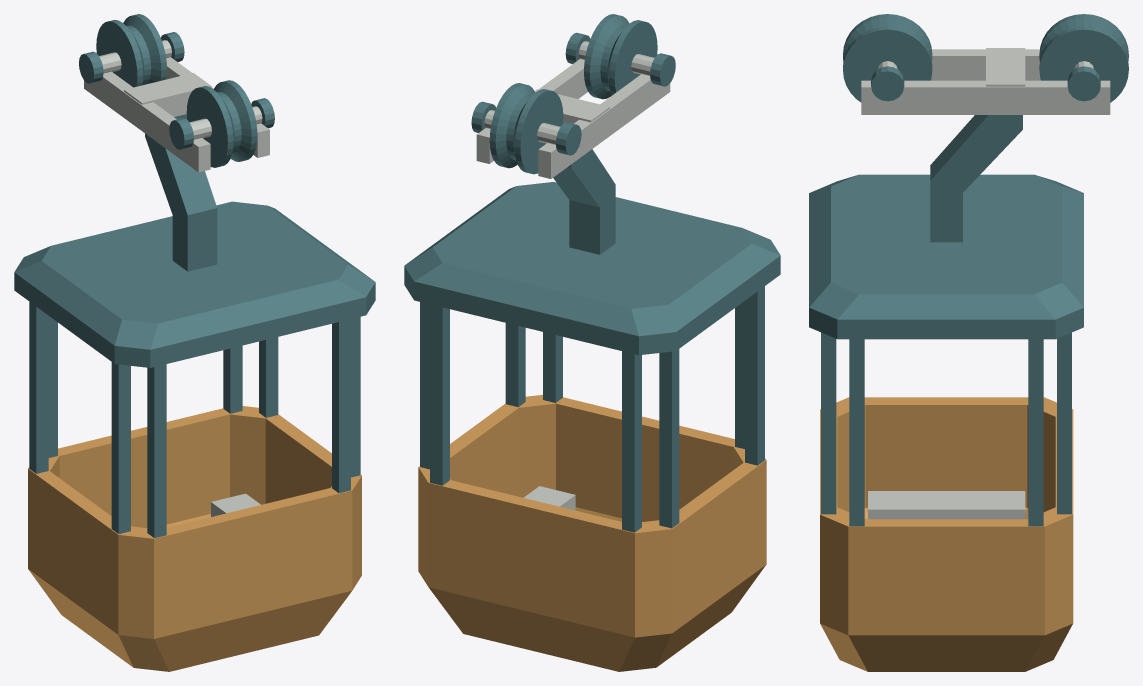
3 views of the same model, side by side, from view 1: azimuth 30°, elevation 25°; view 2: azimuth 150°, elevation 25°; view 3: azimuth 270°, elevation 25° (orthographic). The views are drawn at different scales.
Visible parts, largest first — view 1: WholeChamferedHollowCabinPan, WholeClosedChamferedRoof, WholeOffsetBentSuspensionHanger, WholeGroovedCarrierWheel0, WholeGroovedCarrierWheel1, WholeLongCarrierCheek-1, WholeOpenWindowPillar0, WholeOpenWindowPillar7, WholeOpenWindowPillar6, WholeOpenWindowPillar1, WholeHangerToCarrierCrossBridge, WholeOpenWindowPillar2 (+7 smaller); view 2: WholeChamferedHollowCabinPan, WholeClosedChamferedRoof, WholeGroovedCarrierWheel1, WholeOffsetBentSuspensionHanger, WholeGroovedCarrierWheel0, WholeLongCarrierCheek-1, WholeOpenWindowPillar6, WholeOpenWindowPillar5, WholeOpenWindowPillar4, WholeOpenWindowPillar7, WholeOpenWindowPillar2, WholeOpenWindowPillar3 (+7 smaller); view 3: WholeChamferedHollowCabinPan, WholeClosedChamferedRoof, WholeLongCarrierCheek1, WholeOffsetBentSuspensionHanger, WholeGroovedCarrierWheel1, WholeGroovedCarrierWheel0, WholeFixedInnerBench-1, WholeOpenWindowPillar2, WholeOpenWindowPillar3, WholeOpenWindowPillar1, WholeOpenWindowPillar4, WholeLongCarrierCheek-1 (+3 smaller).
Boxes of the visible parts, left/top/right/bottom form: WholeChamferedHollowCabinPan: left=28, top=406, right=361, bottom=671; WholeClosedChamferedRoof: left=14, top=201, right=375, bottom=367; WholeOffsetBentSuspensionHanger: left=145, top=114, right=217, bottom=271; WholeGroovedCarrierWheel0: left=186, top=80, right=257, bottom=167; WholeGroovedCarrierWheel1: left=96, top=14, right=166, bottom=87; WholeLongCarrierCheek-1: left=84, top=71, right=210, bottom=172; WholeOpenWindowPillar0: left=147, top=364, right=166, bottom=538; WholeOpenWindowPillar7: left=111, top=362, right=130, bottom=533; WholeOpenWindowPillar6: left=29, top=302, right=48, bottom=473; WholeOpenWindowPillar1: left=332, top=319, right=350, bottom=492; WholeHangerToCarrierCrossBridge: left=124, top=73, right=211, bottom=116; WholeOpenWindowPillar2: left=351, top=317, right=360, bottom=477; WholeChamferedHollowCabinPan: left=418, top=394, right=766, bottom=671; WholeClosedChamferedRoof: left=404, top=182, right=780, bottom=355; WholeGroovedCarrierWheel1: left=489, top=83, right=563, bottom=174; WholeOffsetBentSuspensionHanger: left=553, top=149, right=615, bottom=254; WholeGroovedCarrierWheel0: left=584, top=14, right=657, bottom=99; WholeLongCarrierCheek-1: left=538, top=74, right=670, bottom=178; WholeOpenWindowPillar6: left=659, top=349, right=679, bottom=528; WholeOpenWindowPillar5: left=622, top=351, right=641, bottom=532; WholeOpenWindowPillar4: left=430, top=304, right=449, bottom=485; WholeOpenWindowPillar7: left=745, top=286, right=764, bottom=465; WholeOpenWindowPillar2: left=505, top=323, right=525, bottom=407; WholeOpenWindowPillar3: left=420, top=302, right=429, bottom=469; WholeChamferedHollowCabinPan: left=820, top=397, right=1073, bottom=671; WholeClosedChamferedRoof: left=809, top=174, right=1083, bottom=339; WholeLongCarrierCheek1: left=861, top=80, right=1110, bottom=114; WholeOffsetBentSuspensionHanger: left=930, top=115, right=1022, bottom=242; WholeGroovedCarrierWheel1: left=1039, top=14, right=1128, bottom=102; WholeGroovedCarrierWheel0: left=843, top=14, right=932, bottom=102; WholeFixedInnerBench-1: left=868, top=491, right=1025, bottom=519; WholeOpenWindowPillar2: left=849, top=339, right=864, bottom=526; WholeOpenWindowPillar3: left=1028, top=339, right=1043, bottom=526; WholeOpenWindowPillar1: left=821, top=332, right=836, bottom=514; WholeOpenWindowPillar4: left=1057, top=332, right=1071, bottom=514; WholeLongCarrierCheek-1: left=931, top=49, right=1040, bottom=80.
Bounding box in the file's own units: 1.5 × 3.03 × 1.47.
